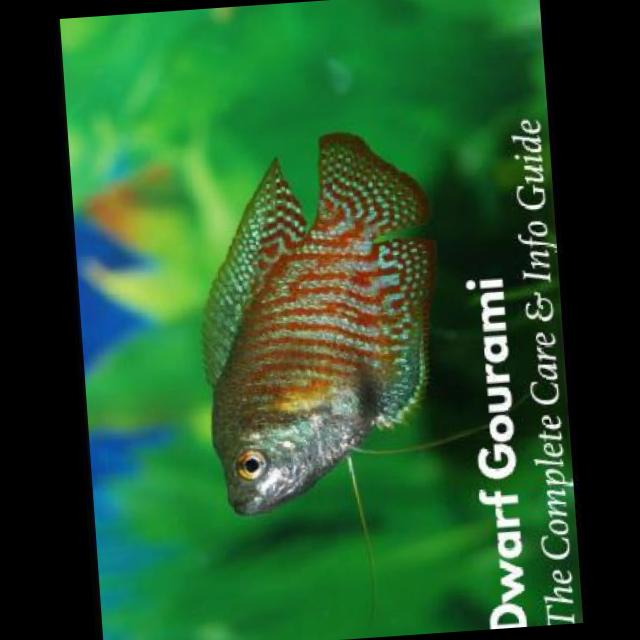Gourami: (182, 124, 450, 516)
